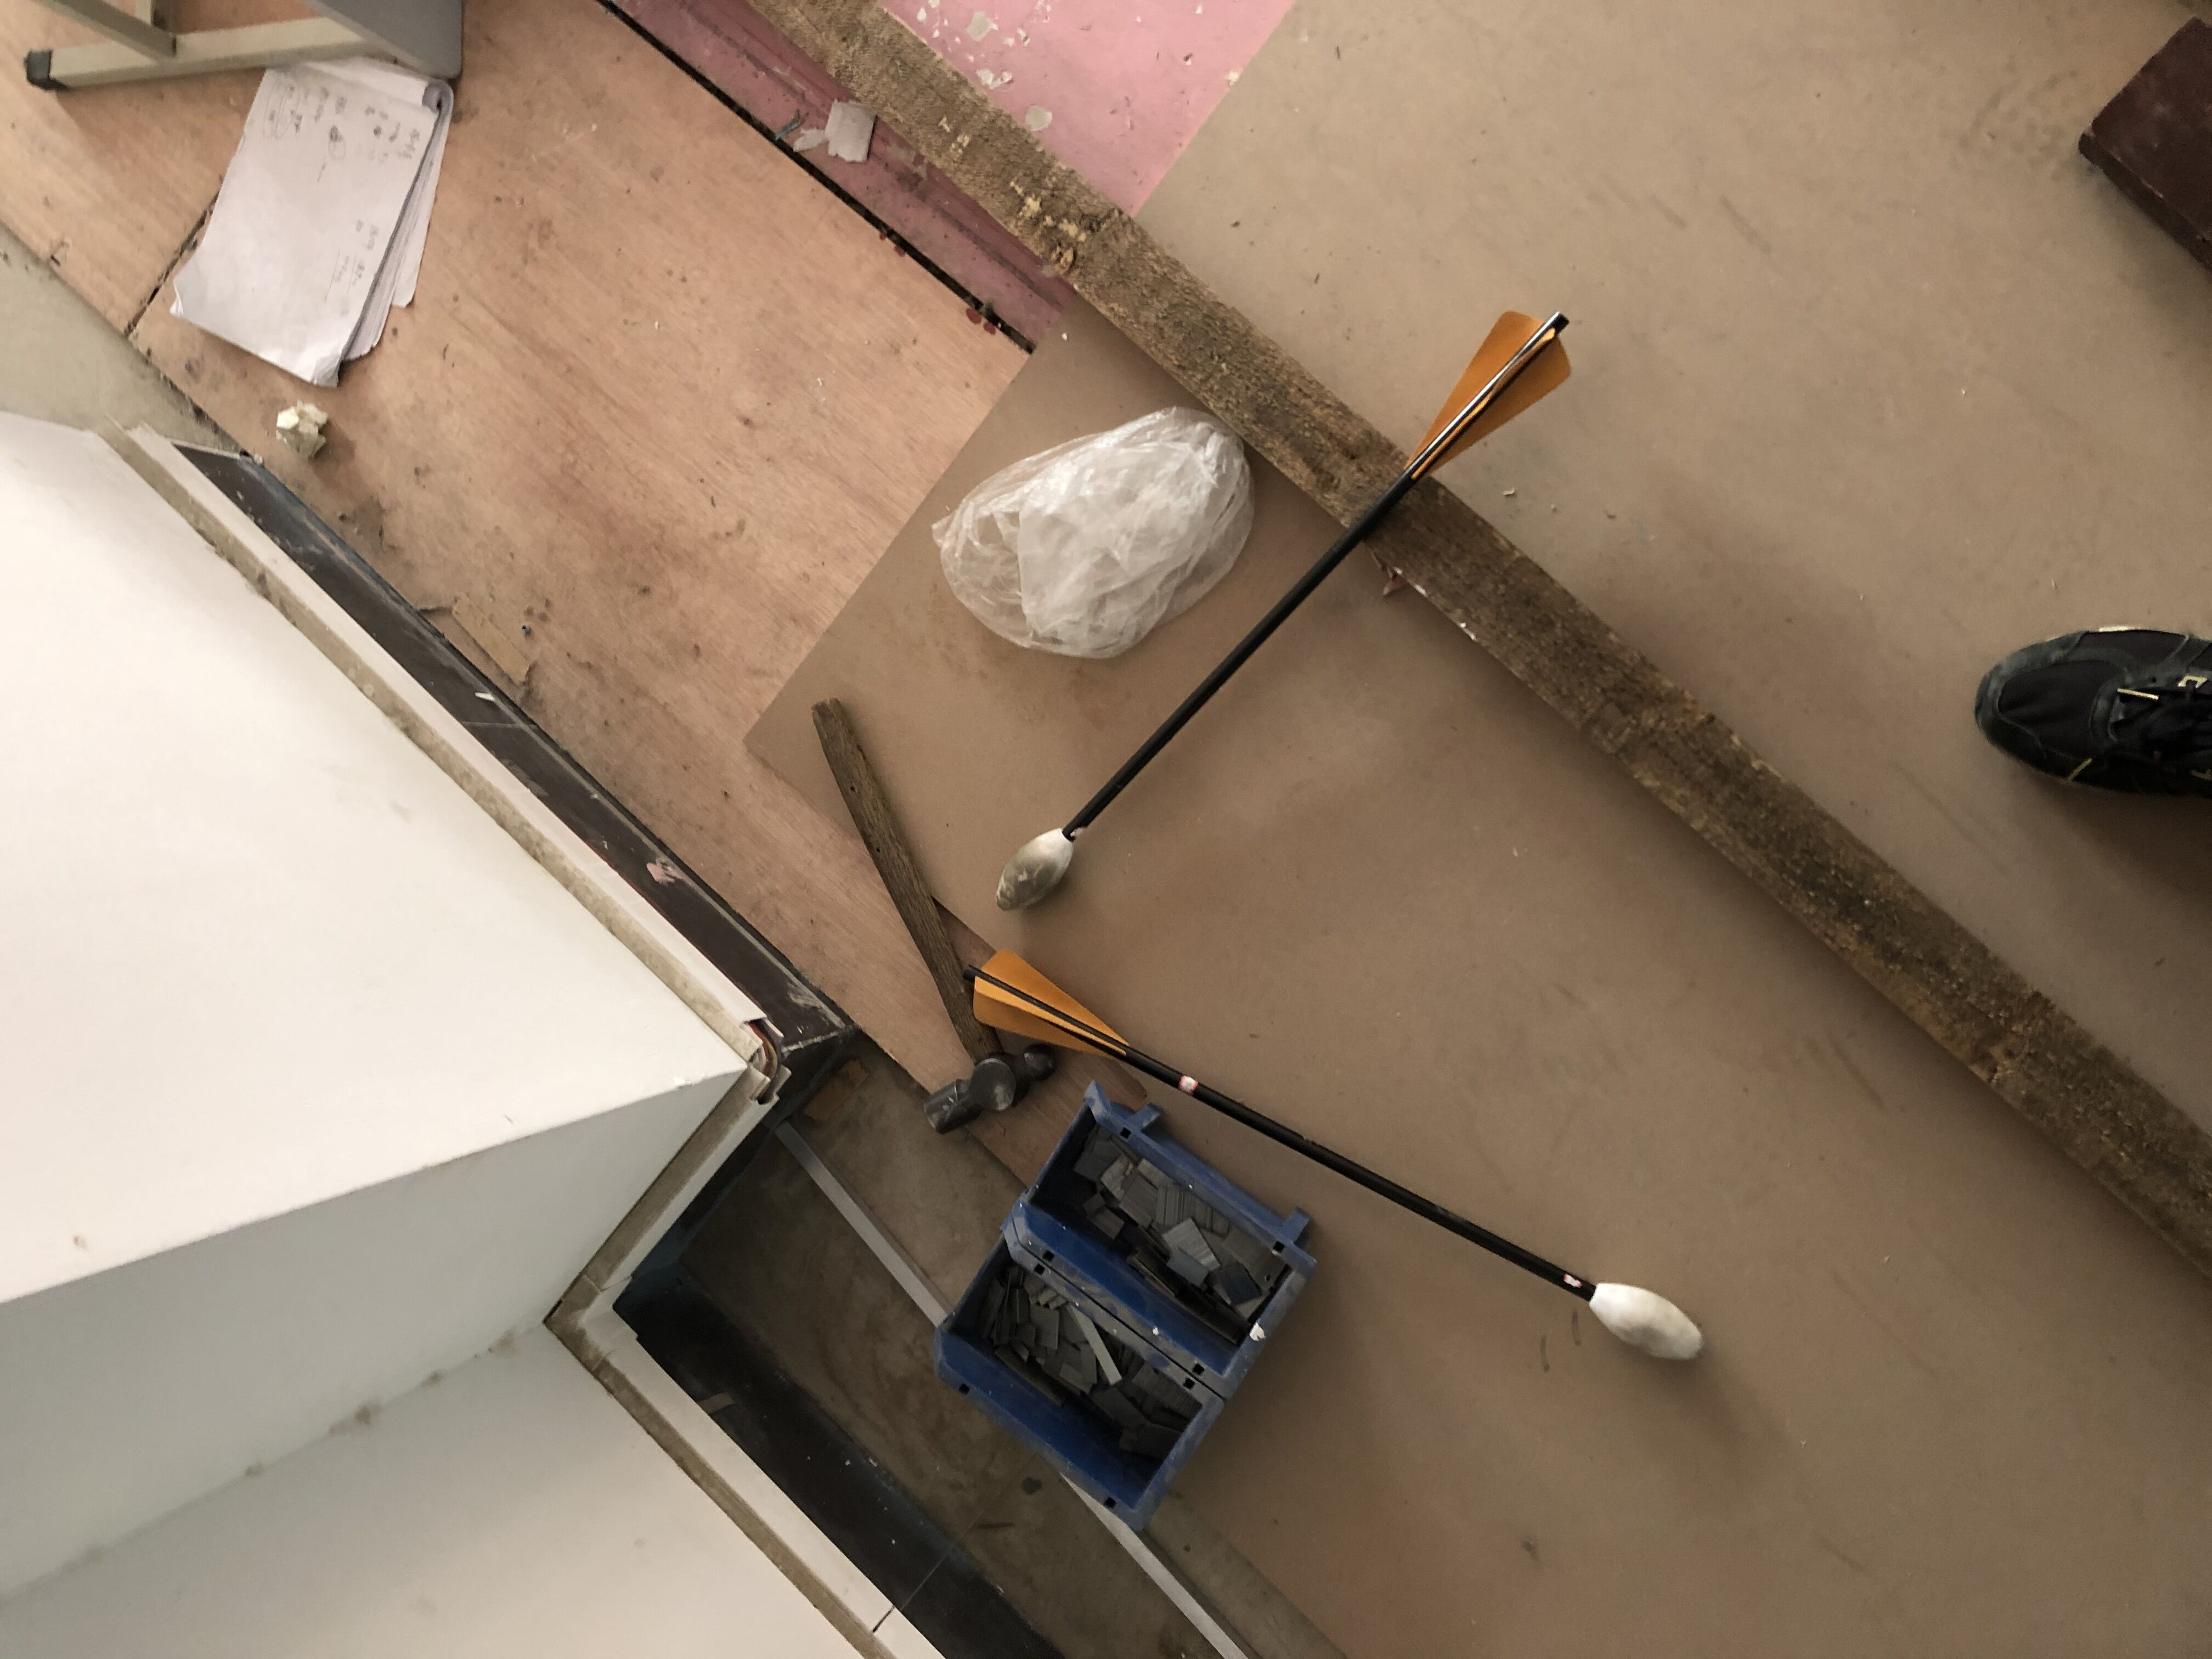arrow: (996, 308, 1573, 910), (968, 943, 1709, 1359)
arrowFront: (1583, 1279, 1710, 1356), (996, 828, 1076, 906)
